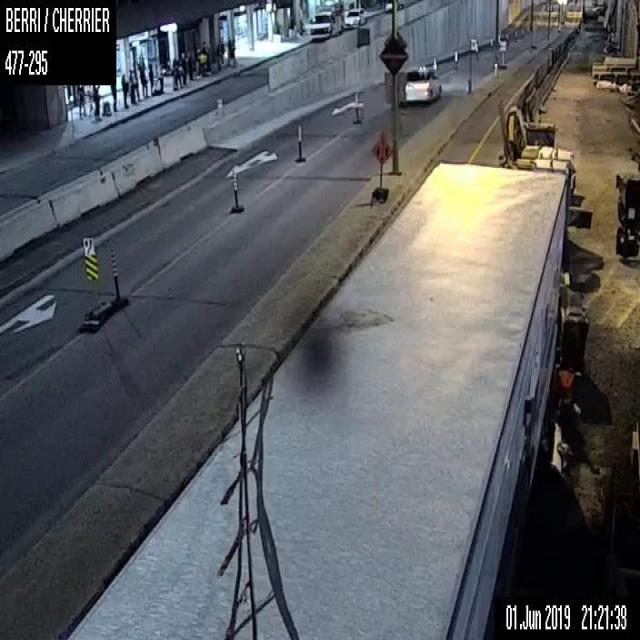construction: (371, 132, 392, 200), (109, 245, 119, 300), (232, 164, 237, 207), (297, 118, 302, 158), (355, 90, 359, 122), (454, 49, 457, 68), (475, 43, 478, 58), (514, 30, 517, 41), (526, 22, 529, 32), (432, 57, 435, 67), (506, 31, 508, 45), (490, 37, 492, 50), (521, 27, 523, 37)
pedestrian: (91, 84, 101, 120), (201, 40, 211, 75), (196, 44, 206, 77), (127, 68, 136, 103), (77, 85, 85, 119), (120, 74, 128, 108), (138, 65, 146, 98), (172, 56, 178, 90), (180, 51, 186, 85), (227, 37, 234, 66), (147, 62, 153, 94), (216, 40, 222, 70), (110, 84, 116, 111), (188, 52, 193, 80)
vehicle: (614, 171, 639, 257), (308, 0, 343, 39), (403, 66, 440, 101), (343, 7, 365, 27), (384, 0, 403, 12)
